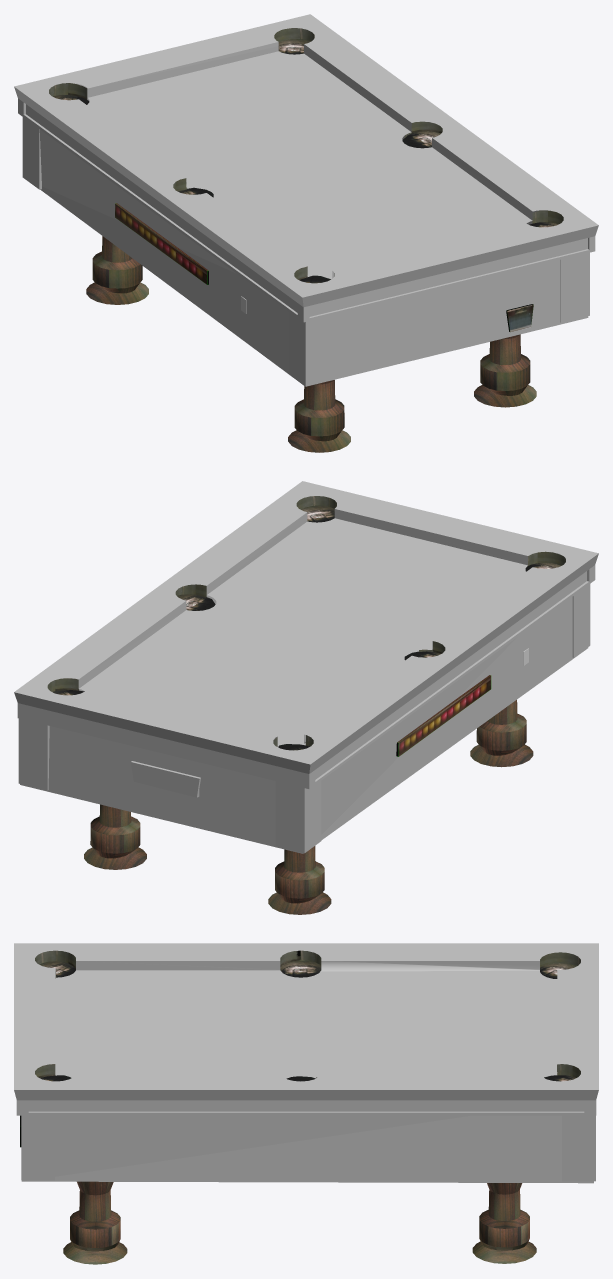
The model's file is Pooltable.fbx.
3 views of the same model, one above another, from view 1: azimuth 30°, elevation 25°; view 2: azimuth 150°, elevation 25°; view 3: azimuth 270°, elevation 25° (orthographic).
Visible parts, largest first — view 1: Box001, Cylinder009, Cylinder008, Box002, Cylinder006, Box009, Box004, Box007, Cylinder014, Cylinder013, Cylinder015, Box006; view 2: Box001, Cylinder006, Box007, Cylinder007, Cylinder008, Box008, Box004, Box005, Box002, Cylinder011, Cylinder013, Cylinder010; view 3: Box001, Cylinder009, Cylinder007, Box008, Box009, Cylinder012, Cylinder010, Cylinder015.
Part boxes in pixels (bbox=[...]): Box001: bbox=[14, 14, 598, 386]; Cylinder009: bbox=[474, 334, 536, 407]; Cylinder008: bbox=[288, 380, 350, 452]; Box002: bbox=[289, 312, 334, 385]; Cylinder006: bbox=[86, 236, 148, 304]; Box009: bbox=[560, 252, 589, 322]; Box004: bbox=[115, 203, 208, 284]; Box007: bbox=[22, 117, 41, 189]; Cylinder014: bbox=[274, 28, 314, 54]; Cylinder013: bbox=[402, 121, 442, 148]; Cylinder015: bbox=[49, 83, 89, 104]; Box006: bbox=[506, 304, 533, 332]; Box001: bbox=[14, 481, 598, 853]; Cylinder006: bbox=[268, 846, 331, 914]; Box007: bbox=[275, 781, 321, 853]; Cylinder007: bbox=[84, 804, 146, 869]; Cylinder008: bbox=[470, 700, 533, 767]; Box008: bbox=[18, 718, 49, 790]; Box004: bbox=[396, 675, 491, 756]; Box005: bbox=[131, 761, 200, 797]; Box002: bbox=[572, 584, 590, 657]; Cylinder011: bbox=[296, 496, 336, 522]; Cylinder013: bbox=[175, 584, 215, 610]; Cylinder010: bbox=[525, 551, 565, 571]; Box001: bbox=[14, 943, 598, 1183]; Cylinder009: bbox=[63, 1181, 127, 1264]; Cylinder007: bbox=[472, 1183, 536, 1263]; Box008: bbox=[562, 1115, 595, 1181]; Box009: bbox=[21, 1115, 54, 1180]; Cylinder012: bbox=[280, 950, 321, 977]; Cylinder010: bbox=[35, 950, 75, 978]; Cylinder015: bbox=[540, 952, 580, 978].
Size of the model in its own units: 52.5 by 31.32 by 88.5.
